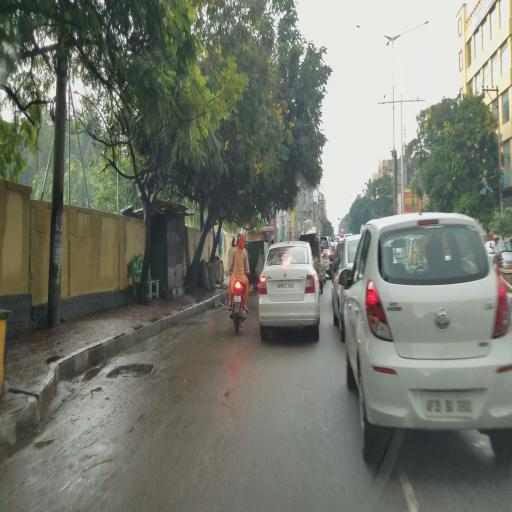street_light_0: (393, 16, 433, 46), (353, 18, 392, 48)
